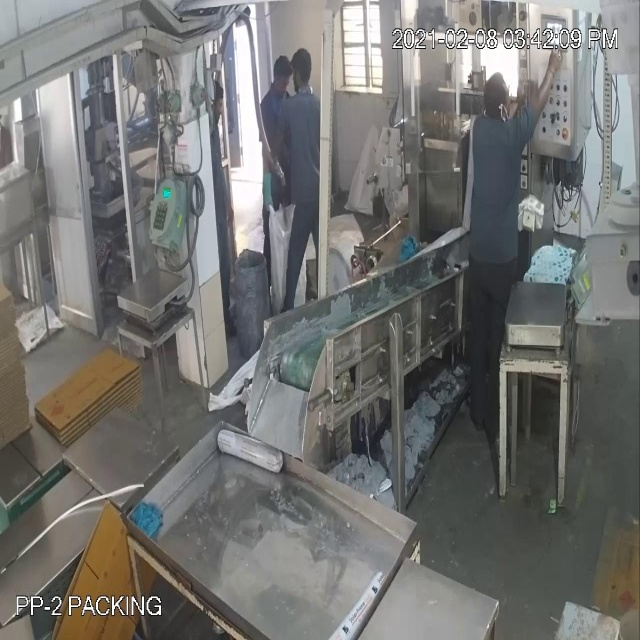Sin_guantes: (515, 39, 572, 135)
